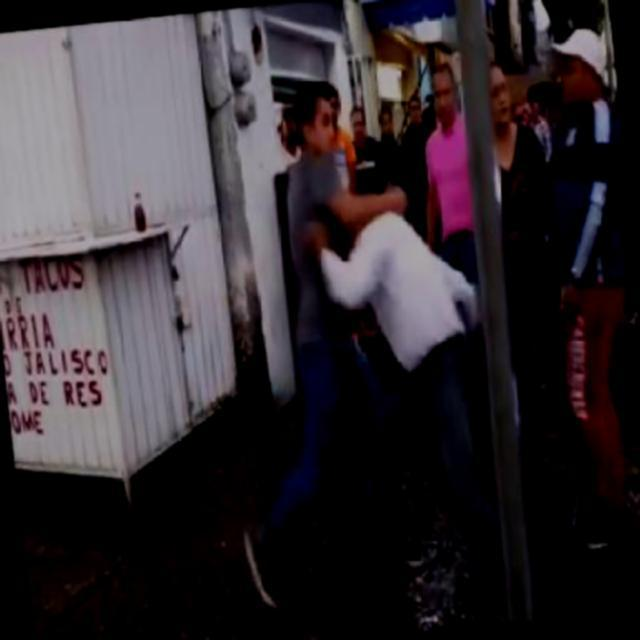fight: (250, 70, 504, 592)
non-fight: (506, 23, 639, 559)
